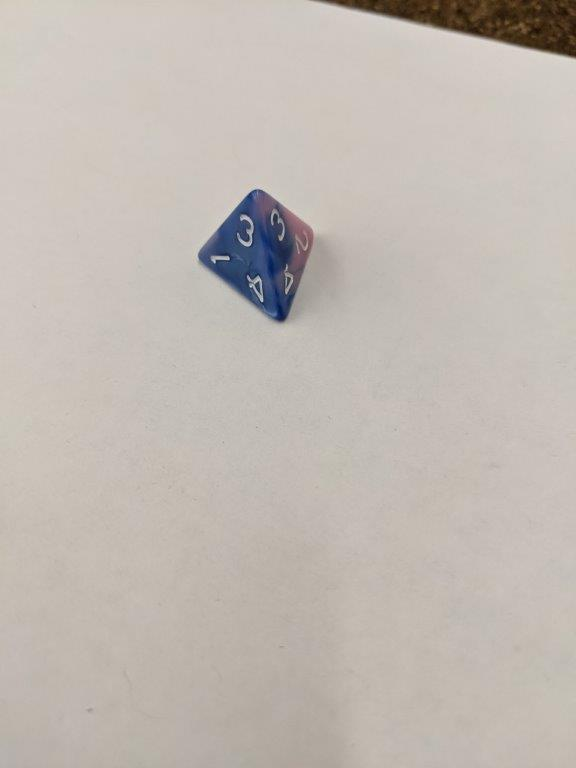d4-3: (192, 186, 317, 326)
